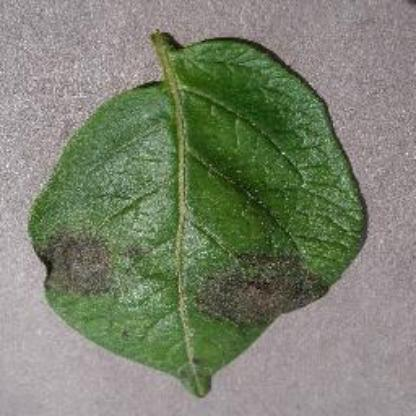Late-Blight: (6, 14, 396, 410)
